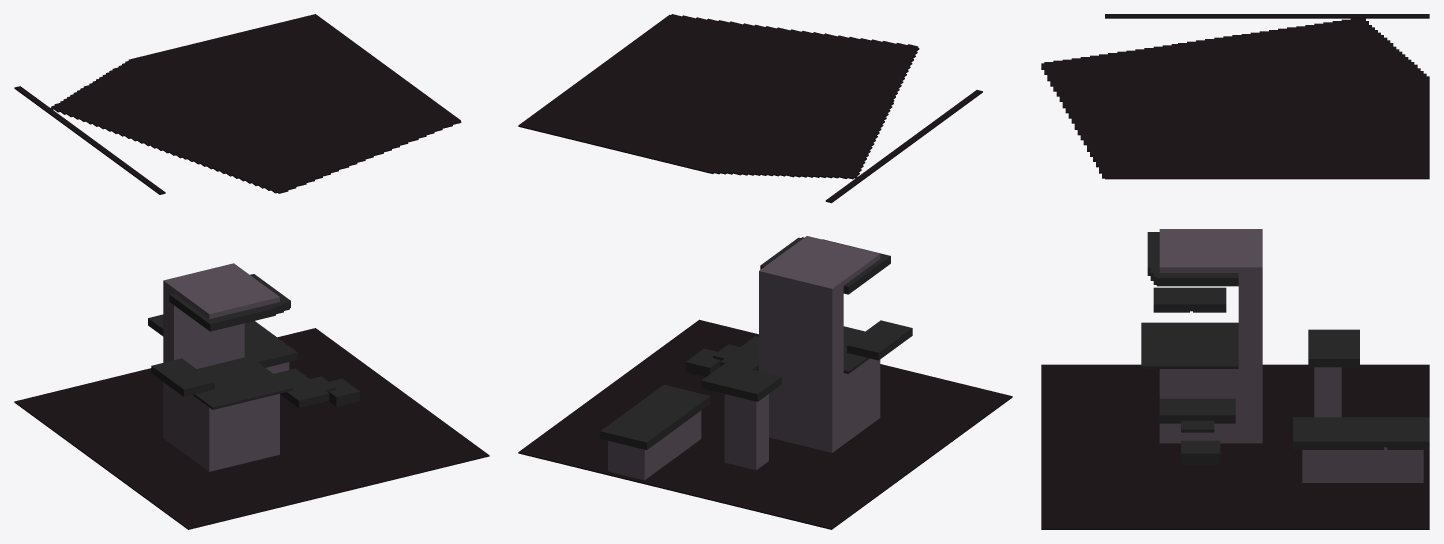
The model's file is estructura_1.obj.
The picture shows the model from 3 angles, left to right: view 1: azimuth 30°, elevation 25°; view 2: azimuth 150°, elevation 25°; view 3: azimuth 270°, elevation 25°; orthographic projection. The views are drawn at different scales.
Bounding box in the file's own units: 25.6 × 25.6 × 25.6.
Materials: 1 (1 with a texture image).
